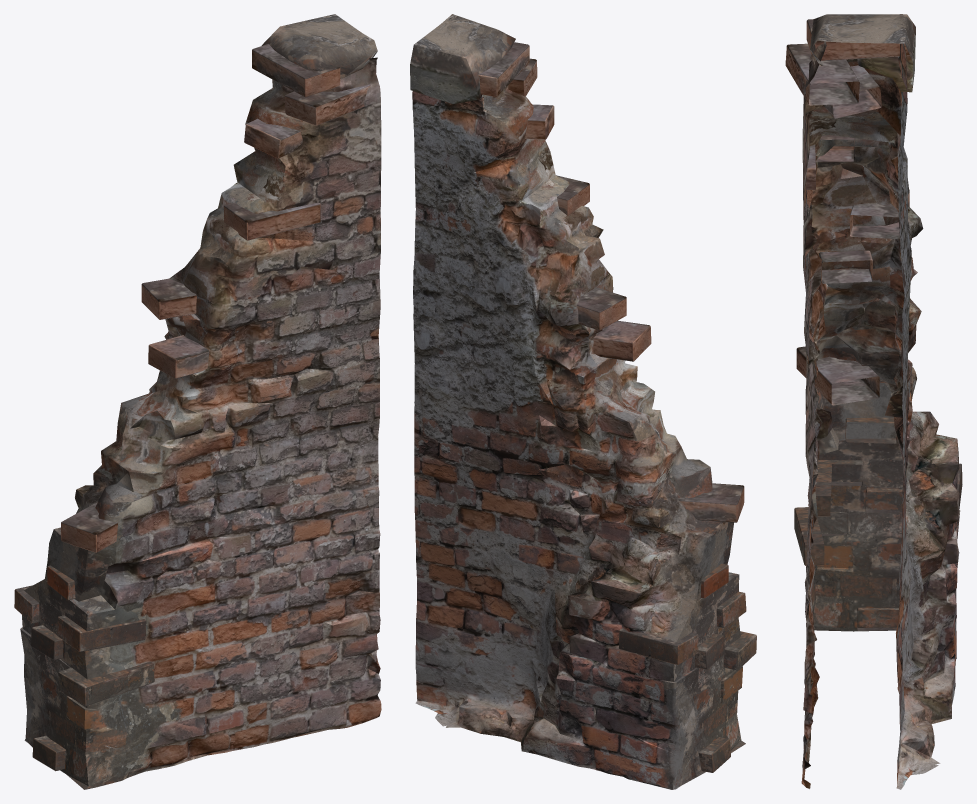
File: SM_ChapelWall_02_08.fbx
The picture shows the model from 3 angles, left to right: view 1: azimuth 30°, elevation 25°; view 2: azimuth 150°, elevation 25°; view 3: azimuth 270°, elevation 25°; orthographic projection. The views are drawn at different scales.
Visible parts, largest first — view 1: sm_ChapelWall_02_08_LOD0; view 2: sm_ChapelWall_02_08_LOD0; view 3: sm_ChapelWall_02_08_LOD0.
Part boxes in pixels (x1,y1,x2,y2): sm_ChapelWall_02_08_LOD0: (14,14,381,789); sm_ChapelWall_02_08_LOD0: (410,14,756,789); sm_ChapelWall_02_08_LOD0: (785,14,962,789).
Bounding box in the file's own units: 59.31 × 131 × 277.
